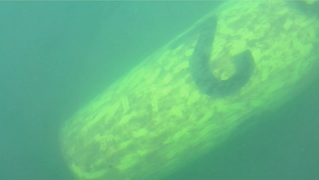2: (168, 14, 256, 98), (225, 108, 275, 142)
pipe: (57, 1, 319, 179)
